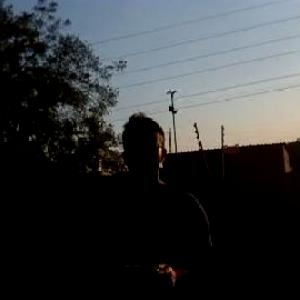follow: (94, 109, 224, 299)
